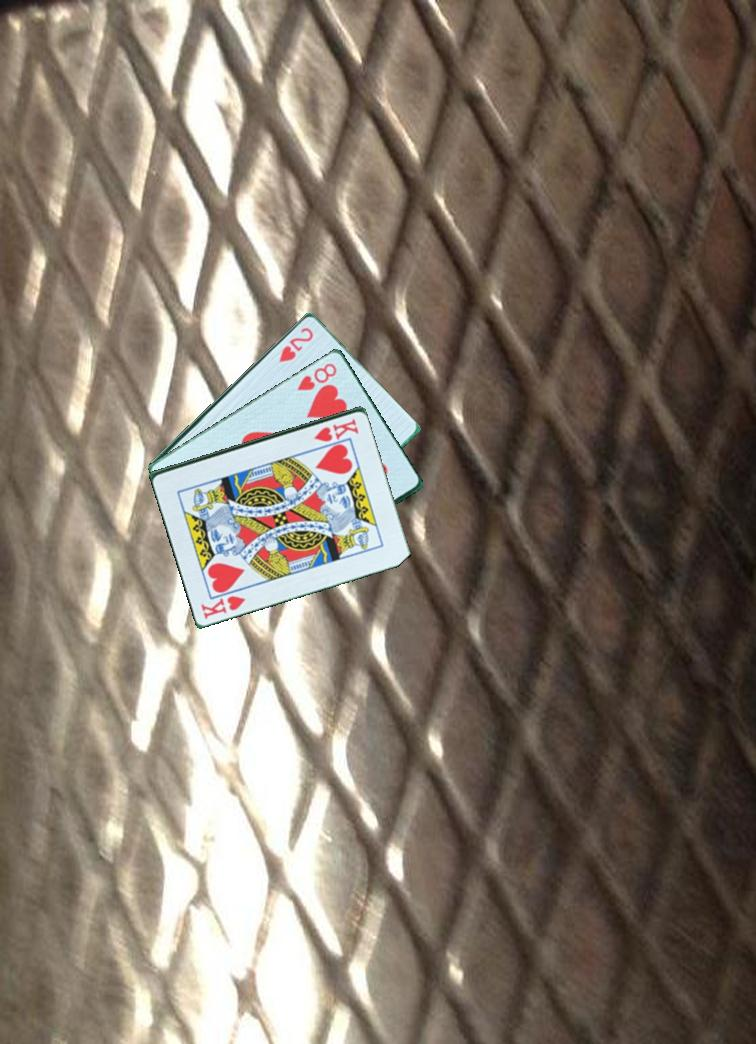2h: (275, 323, 317, 365)
8h: (293, 359, 340, 393)
kh: (197, 591, 249, 621), (309, 415, 361, 444)
